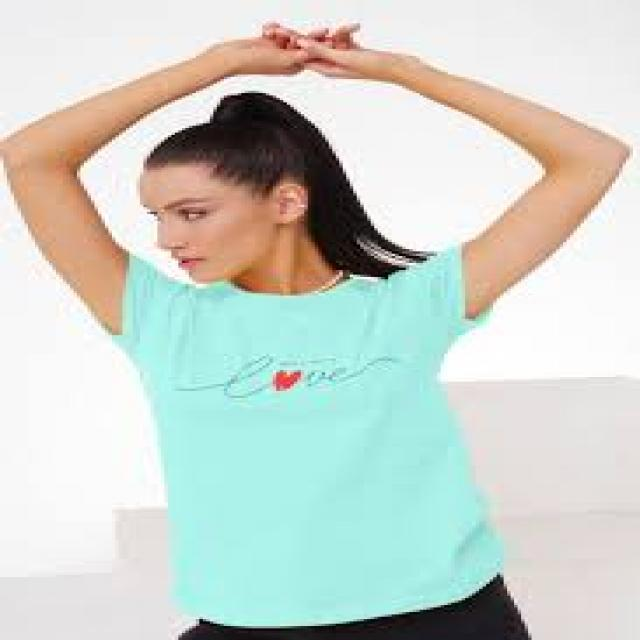Shirt: (31, 241, 550, 627)
